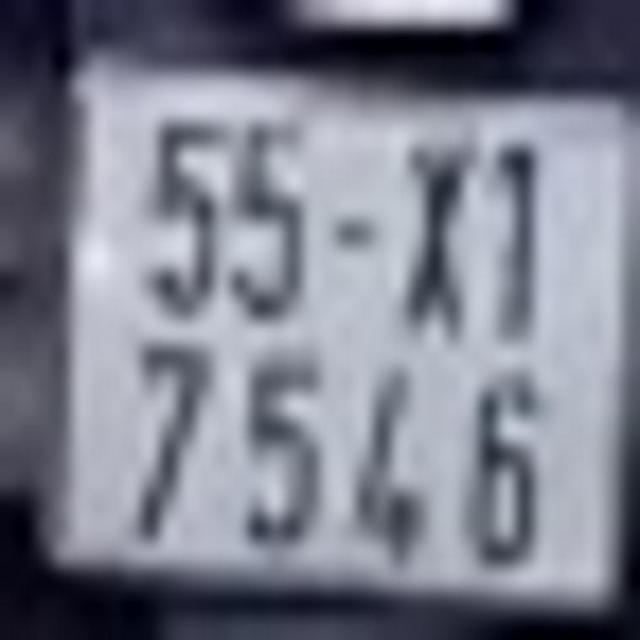1: (491, 136, 538, 342)
4: (354, 361, 427, 568)
5: (242, 344, 321, 551), (148, 117, 223, 320), (231, 115, 305, 319)
6: (472, 364, 545, 570)
7: (140, 335, 215, 544)
X: (395, 130, 480, 345)
